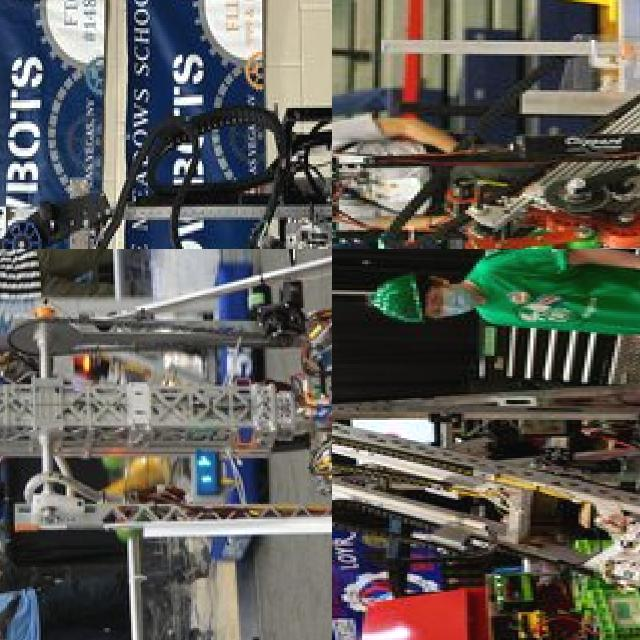FRC-Robots: (0, 249, 332, 640), (332, 281, 640, 640), (0, 0, 332, 249), (429, 0, 640, 249)
